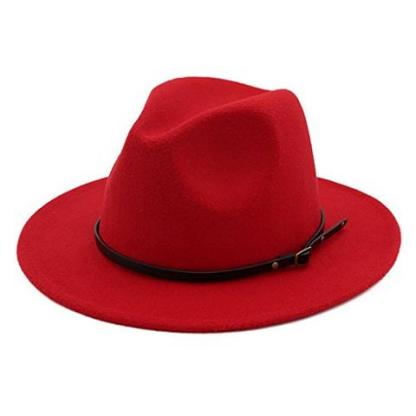hat: (12, 73, 406, 337)
